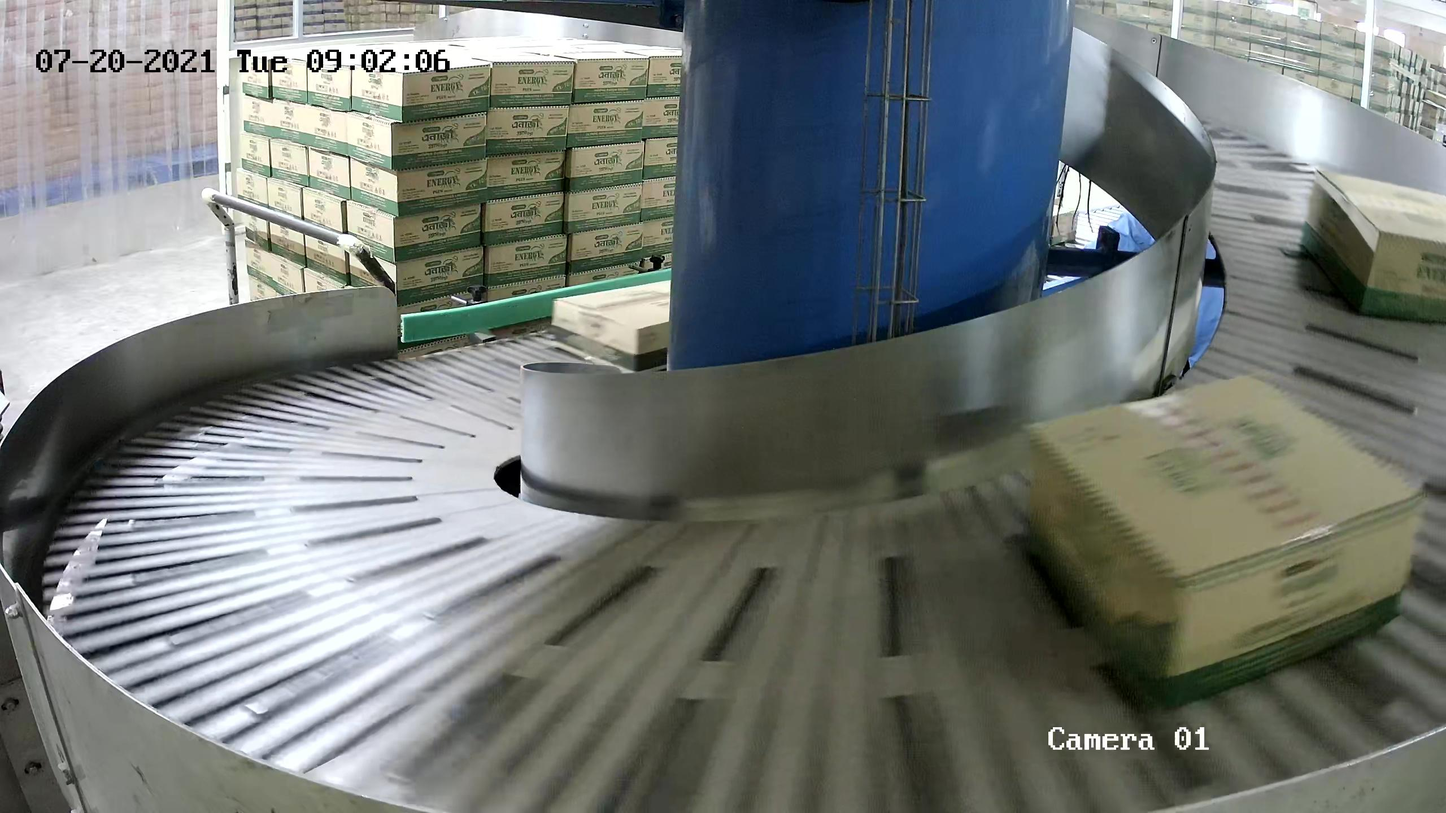Box: (1022, 374, 1425, 709), (549, 267, 769, 381), (1299, 168, 1446, 328)
